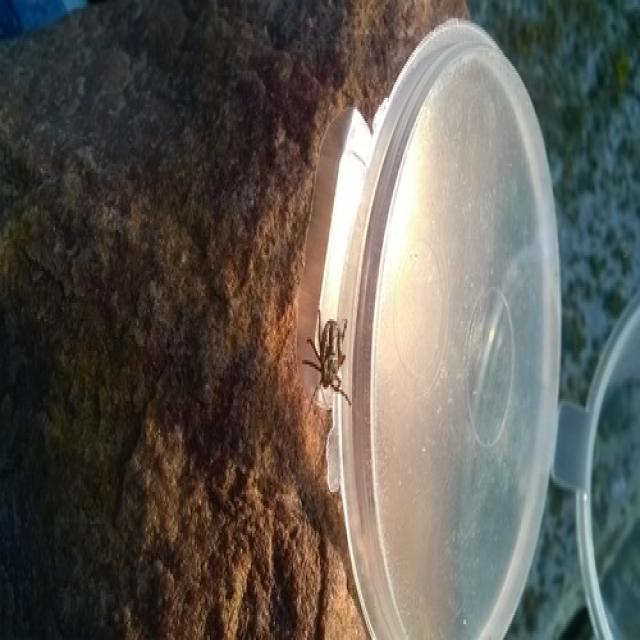Dermacentor Reticulatus-F: (301, 317, 351, 408)
